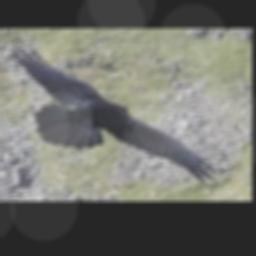Crow: (9, 48, 221, 184)
